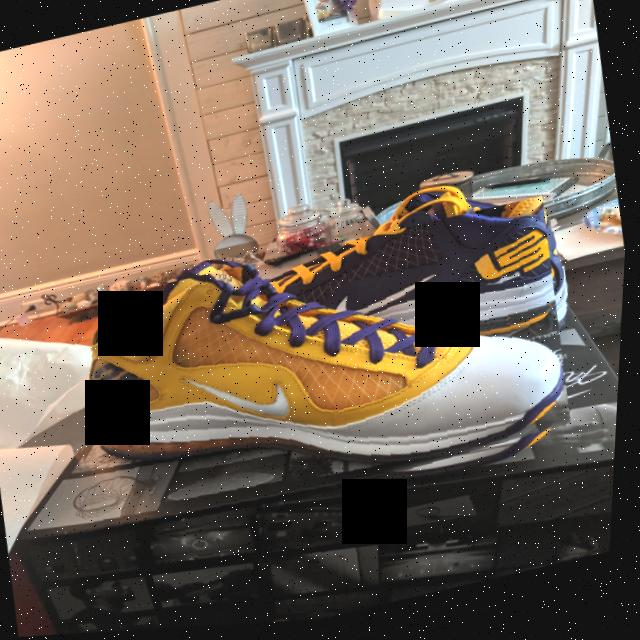shoe: (53, 201, 590, 563), (276, 169, 579, 374)
